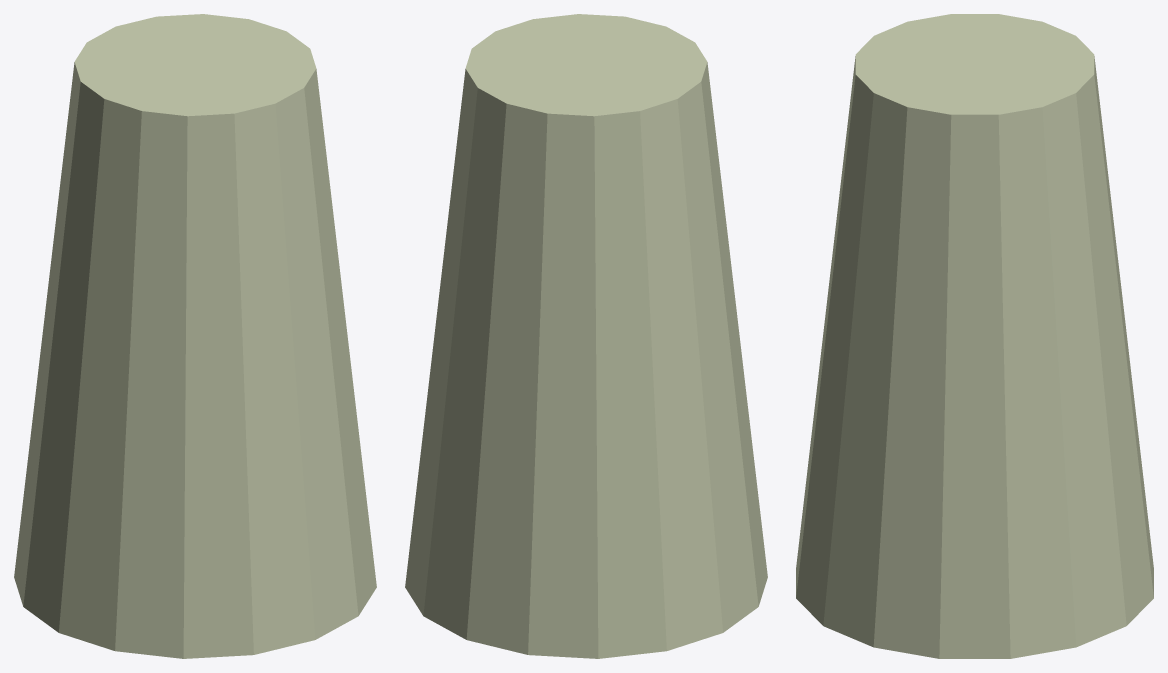
The model's file is tantares_lv_fuel_tank_s1p5_s1_3_collider.obj.
3 renders of one model, left to right at view 1: azimuth 30°, elevation 25°; view 2: azimuth 150°, elevation 25°; view 3: azimuth 270°, elevation 25°, orthographic.
Parts seen in each view (by area): view 1: tantares_lv_fuel_tank_s1p5_s1_3_collider; view 2: tantares_lv_fuel_tank_s1p5_s1_3_collider; view 3: tantares_lv_fuel_tank_s1p5_s1_3_collider.
Boxes of the visible parts, x1=… form: tantares_lv_fuel_tank_s1p5_s1_3_collider: x1=14, y1=14, x2=376, y2=658; tantares_lv_fuel_tank_s1p5_s1_3_collider: x1=405, y1=14, x2=767, y2=658; tantares_lv_fuel_tank_s1p5_s1_3_collider: x1=796, y1=14, x2=1153, y2=658.
Size of the model in its own units: 1.88 by 3 by 1.88.
